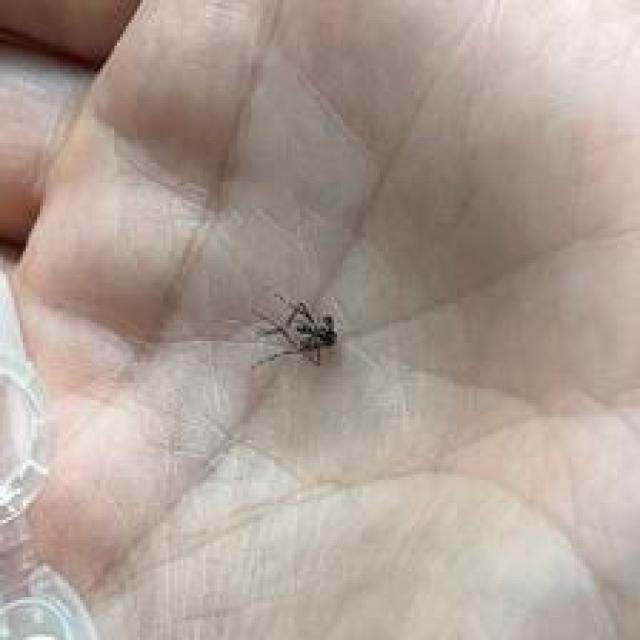Aedes albopictus: (249, 292, 340, 372)
